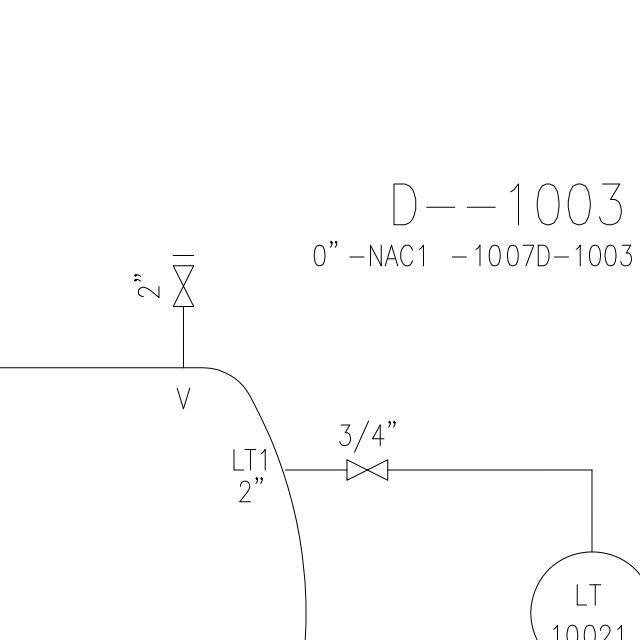GV: (340, 455, 393, 484), (171, 260, 197, 312)
